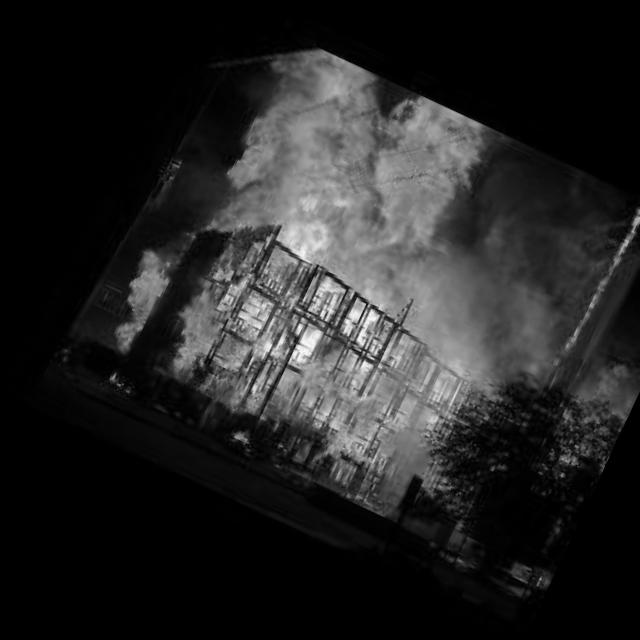fire: (128, 33, 567, 514), (560, 194, 640, 358), (98, 239, 185, 363)
smoke: (418, 132, 628, 366)
